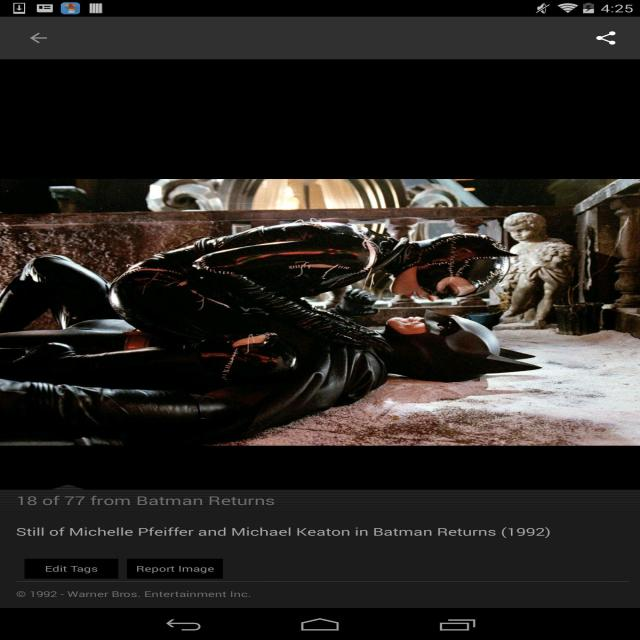button: (22, 558, 120, 579), (128, 559, 222, 580), (588, 26, 626, 50), (24, 27, 55, 50)
image: (0, 176, 640, 447)
text: (15, 496, 555, 541)
